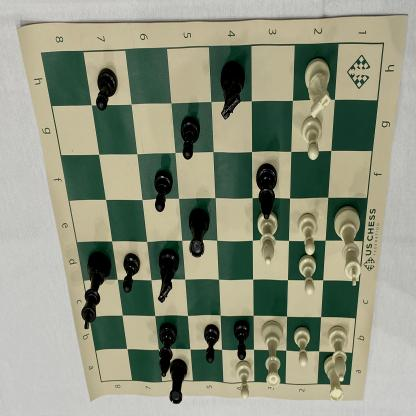black-bishop: (253, 160, 280, 222), (156, 320, 178, 382)
black-king: (80, 249, 112, 333)
black-knight: (215, 57, 248, 125), (156, 245, 180, 306)
black-pawn: (94, 63, 122, 117), (176, 113, 203, 165), (151, 167, 174, 216), (230, 318, 253, 363), (121, 251, 143, 297), (202, 320, 222, 366)
black-rook: (186, 205, 213, 263), (167, 354, 189, 408)
white-bishop: (256, 209, 282, 270), (326, 323, 350, 384)
white-king: (332, 202, 366, 290)
white-knight: (303, 54, 334, 122)
white-pawn: (299, 114, 326, 164), (296, 210, 320, 257), (298, 253, 320, 298), (234, 359, 256, 402), (292, 323, 313, 368)
white-queen: (260, 317, 286, 392)
white-rook: (320, 354, 345, 406)
